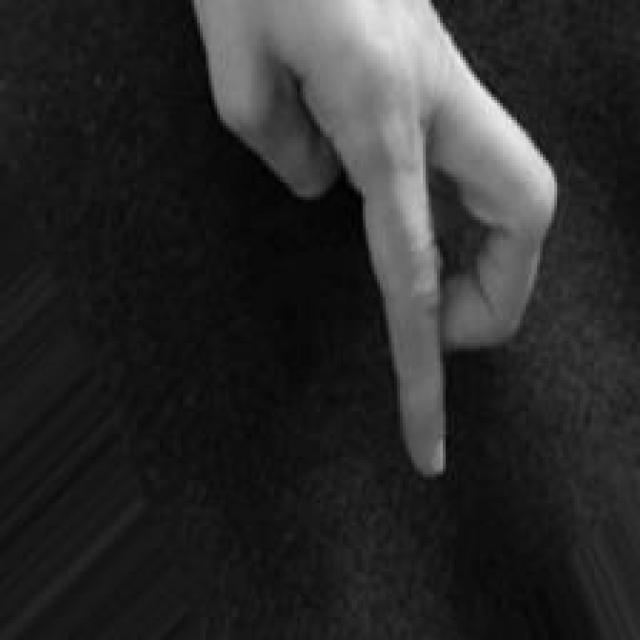P: (190, 0, 565, 485)
